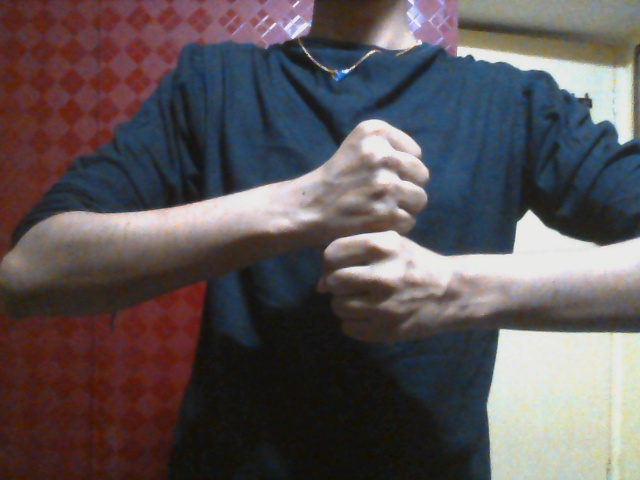G: (314, 118, 460, 344)
